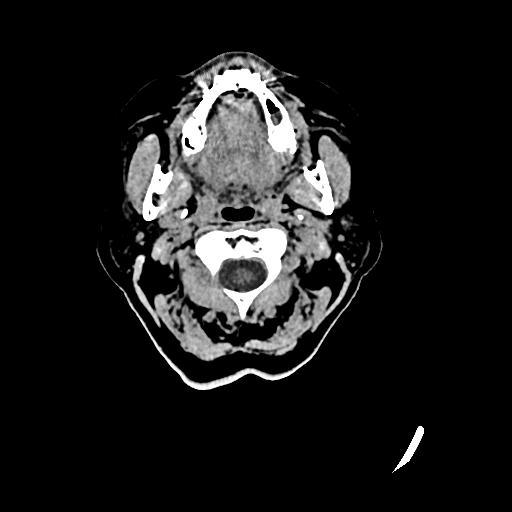Normal_Brain: (99, 47, 377, 408)
